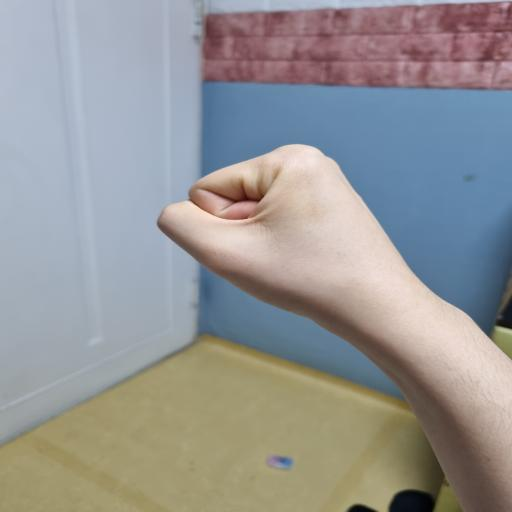Rock: (161, 142, 507, 512)
